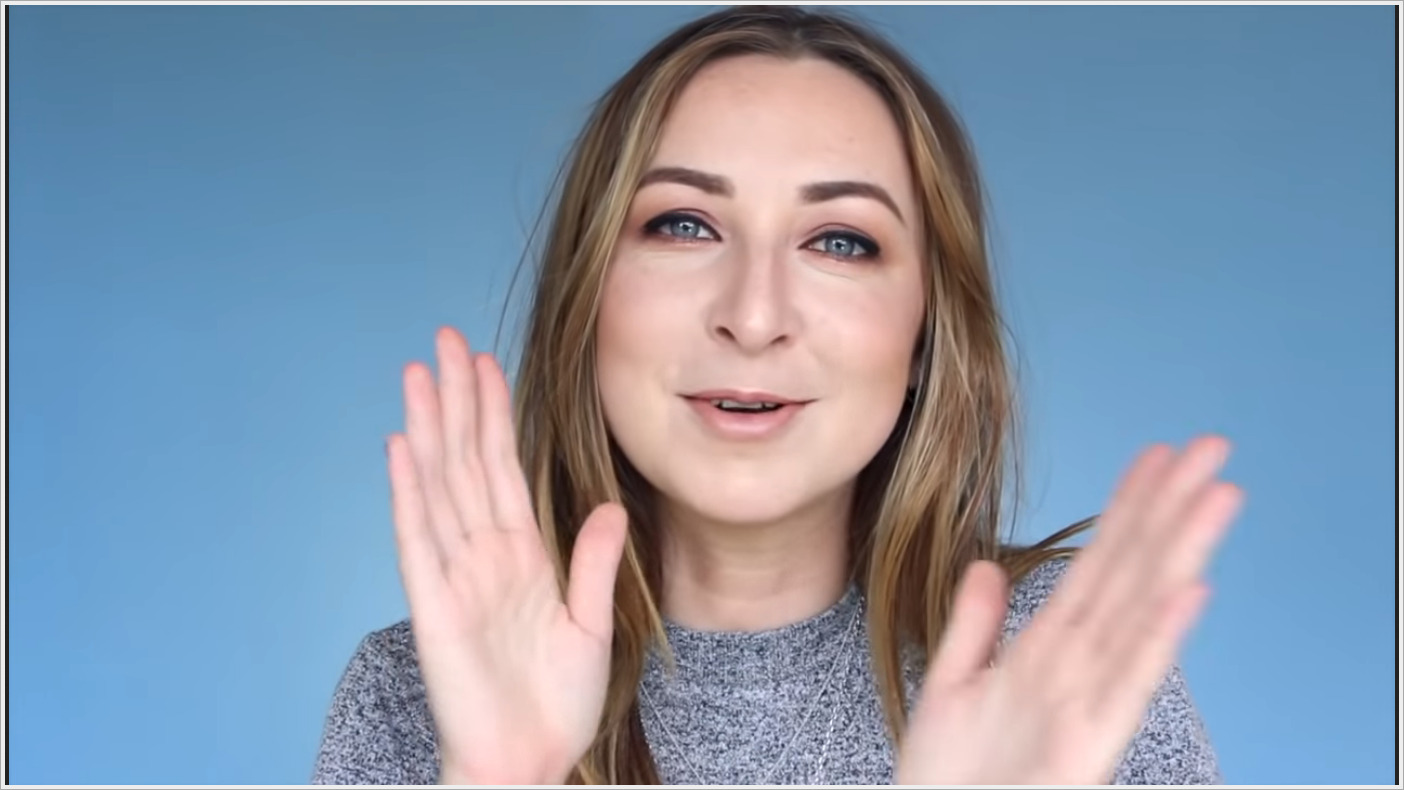hand: (893, 429, 1256, 789), (380, 328, 635, 777)
